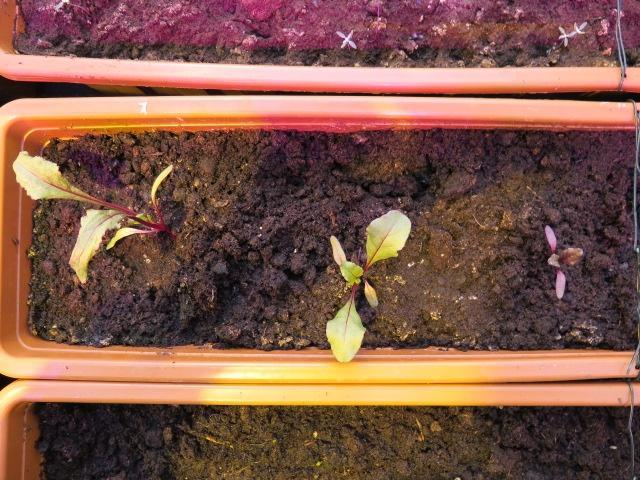weed: (331, 23, 358, 50)
